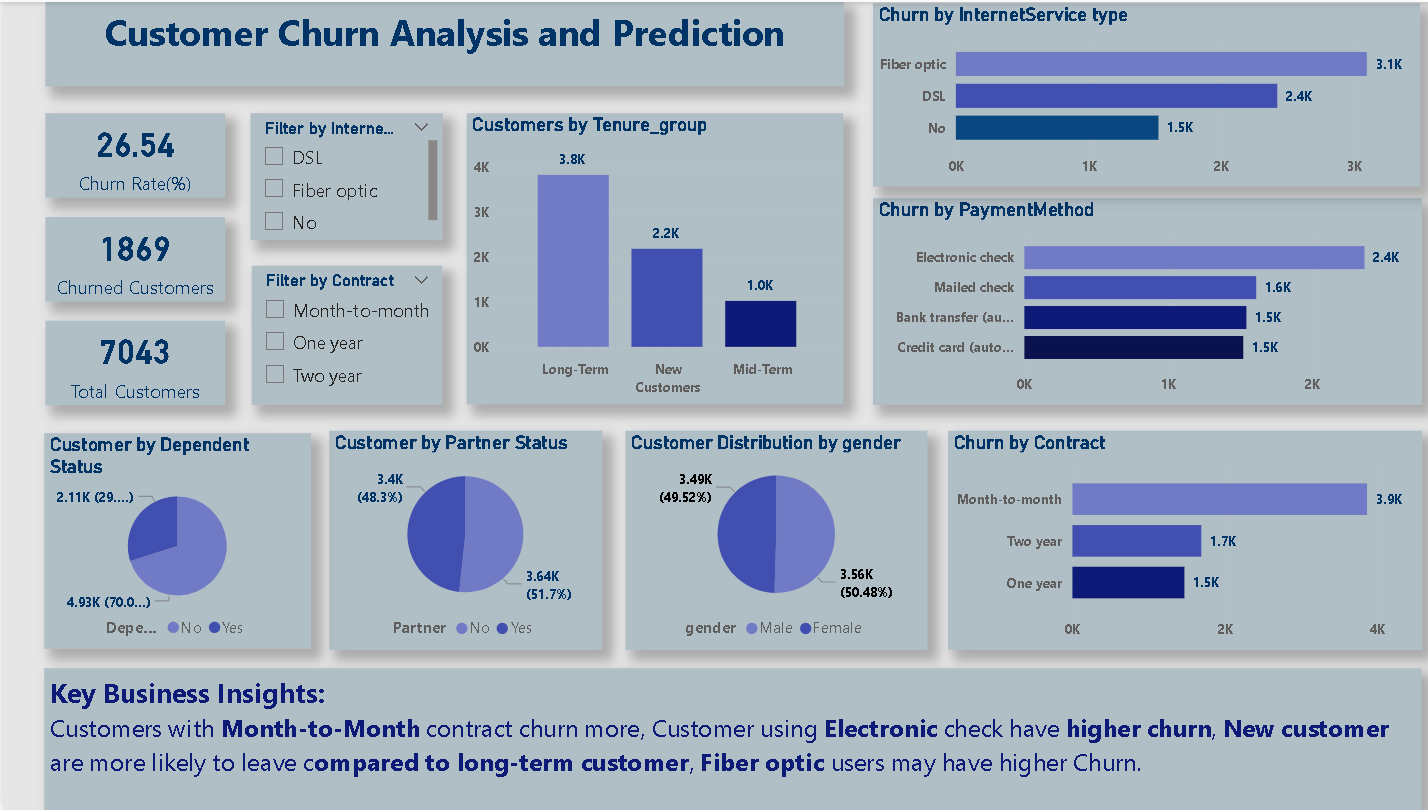

Layout of this report page (visuals, bound fields, positions):
{"tool":"powerbi","page":{"name":"Page 1","canvas":[1280,720],"ordinal":0},"visuals":[{"type":"textbox","box":[37.4,0,711.4,74.9],"z":0},{"type":"card","fields":{"Values":["Telco_Customer_Churn_Dataset  (2).Churn Rate"]},"box":[37.4,99.4,159.9,74.9],"z":1000},{"type":"card","fields":{"Values":["Telco_Customer_Churn_Dataset  (2).Churned Customers"]},"box":[37.4,191.5,159.9,74.9],"z":2000},{"type":"card","fields":{"Values":["Telco_Customer_Churn_Dataset  (2).Total_Customers"]},"box":[37.4,283.7,159.9,74.9],"z":3000},{"type":"pieChart","title":"Customer by Partner Status","fields":{"Y":["CountNonNull(Telco_Customer_Churn_Dataset  (2).customerID)"],"Category":["Telco_Customer_Churn_Dataset  (2).Partner"]},"box":[290.9,381.5,242.9,194.9],"z":4000},{"type":"pieChart","title":"Customer Distribution by gender","fields":{"Y":["CountNonNull(Telco_Customer_Churn_Dataset  (2).customerID)"],"Category":["Telco_Customer_Churn_Dataset  (2).gender"]},"box":[554.4,381.5,269,194.9],"z":5000},{"type":"pieChart","title":"Customer by Dependent Status","fields":{"Y":["CountNonNull(Telco_Customer_Churn_Dataset  (2).customerID)"],"Category":["Telco_Customer_Churn_Dataset  (2).Dependents"]},"box":[37,384.2,237.4,192.1],"z":6000},{"type":"columnChart","title":"Customers by Tenure_group","fields":{"Category":["Telco_Customer_Churn_Dataset  (2).Tenure_group"],"Y":["CountNonNull(Telco_Customer_Churn_Dataset  (2).customerID)"]},"box":[413.3,99.4,335.6,259.2],"z":7000},{"type":"barChart","title":"Churn by Contract","fields":{"Category":["Telco_Customer_Churn_Dataset  (2).Contract"],"Y":["CountNonNull(Telco_Customer_Churn_Dataset  (2).Churn)"]},"box":[841.2,381.5,422.6,194.9],"z":8000},{"type":"barChart","title":"Churn by PaymentMethod","fields":{"Y":["CountNonNull(Telco_Customer_Churn_Dataset  (2).Churn)"],"Category":["Telco_Customer_Churn_Dataset  (2).PaymentMethod"]},"box":[775.3,174.3,488.5,183.9],"z":9000},{"type":"barChart","title":"Churn by InternetService type","fields":{"Y":["CountNonNull(Telco_Customer_Churn_Dataset  (2).Churn)"],"Category":["Telco_Customer_Churn_Dataset  (2).InternetService"]},"box":[775.3,1.4,487.1,163.3],"z":10000},{"type":"slicer","fields":{"Values":["Telco_Customer_Churn_Dataset  (2).InternetService"]},"box":[220.9,98.8,171.5,112.5],"z":11000},{"type":"slicer","fields":{"Values":["Telco_Customer_Churn_Dataset  (2).Contract"]},"box":[221.8,234.7,169.9,123.9],"z":12000},{"type":"textbox","box":[37,592.8,1226.8,127.6],"z":12001}]}

Visuals, with their boxes in screenshot pixels (x1, y1, x2, y2), scaled from the page's 1280x720 canvas onto the 1428x810 screenshot:
textbox: x1=42, y1=0, x2=835, y2=84
card - Telco_Customer_Churn_Dataset  (2).Churn Rate: x1=42, y1=112, x2=220, y2=196
card - Telco_Customer_Churn_Dataset  (2).Churned Customers: x1=42, y1=215, x2=220, y2=300
card - Telco_Customer_Churn_Dataset  (2).Total_Customers: x1=42, y1=319, x2=220, y2=403
"Customer by Partner Status" pieChart: x1=325, y1=429, x2=596, y2=648
"Customer Distribution by gender" pieChart: x1=619, y1=429, x2=919, y2=648
"Customer by Dependent Status" pieChart: x1=41, y1=432, x2=306, y2=648
"Customers by Tenure_group" columnChart: x1=461, y1=112, x2=835, y2=403
"Churn by Contract" barChart: x1=938, y1=429, x2=1410, y2=648
"Churn by PaymentMethod" barChart: x1=865, y1=196, x2=1410, y2=403
"Churn by InternetService type" barChart: x1=865, y1=2, x2=1408, y2=185
slicer - Telco_Customer_Churn_Dataset  (2).InternetService: x1=246, y1=111, x2=438, y2=238
slicer - Telco_Customer_Churn_Dataset  (2).Contract: x1=247, y1=264, x2=437, y2=403
textbox: x1=41, y1=667, x2=1410, y2=809
